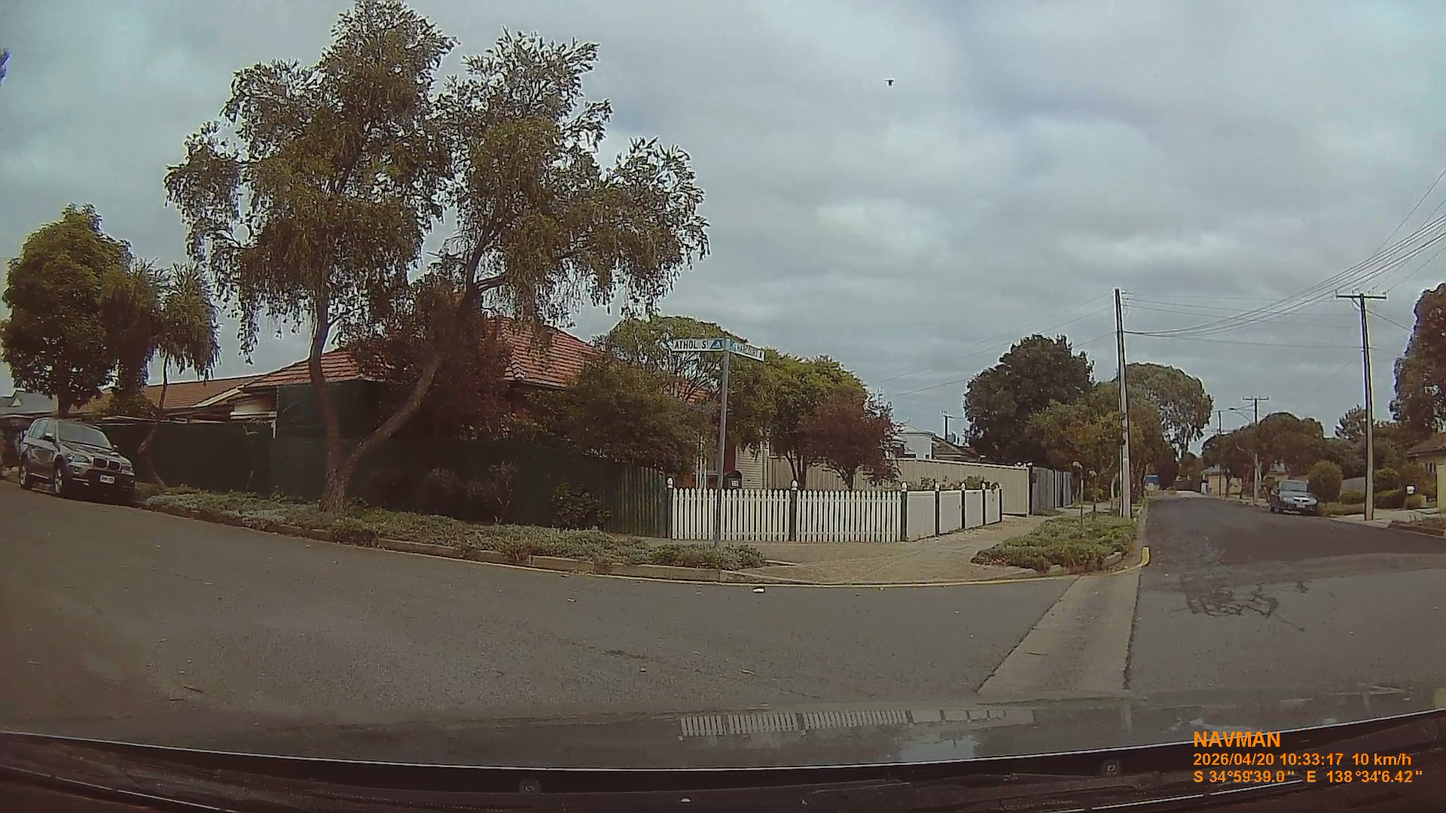fences: (350, 413, 661, 534), (670, 488, 1002, 541), (604, 465, 676, 539), (1030, 467, 1075, 514)
